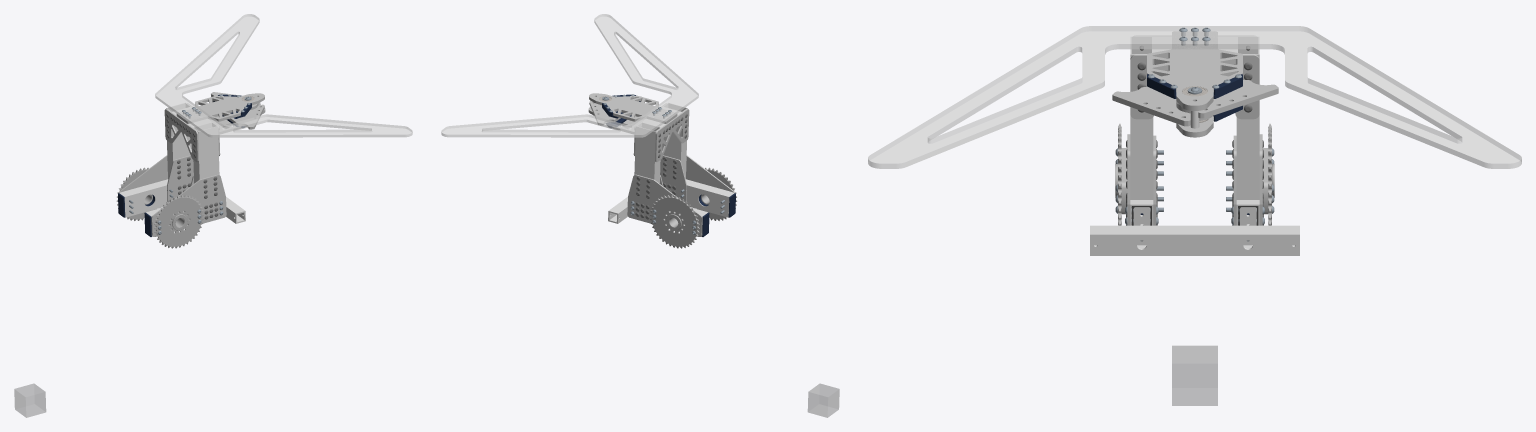
The picture shows the model from 3 angles, left to right: view 1: azimuth 30°, elevation 25°; view 2: azimuth 150°, elevation 25°; view 3: azimuth 270°, elevation 25°; orthographic projection. The views are drawn at different scales.
Visible parts, largest first — view 1: W25-CL-P059 side, W25-CL-P051 (×2), W25-CL-BT052 (×2), am-4794 40T 35 Chain 1125in Plate, W25-CL-P057, W25-CL-BT050, Origin Cube, W25-CL-P054, W25-CL-P067, W25-CL-P058; view 2: W25-CL-P059 side, W25-CL-P051 (×2), W25-CL-BT052 (×2), am-4794 40T 35 Chain 1125in Plate, W25-CL-P057, W25-CL-BT050, Origin Cube, W25-CL-P054, W25-CL-P067; view 3: W25-CL-P059 side, W25-CL-BT056, W25-CL-BT052 (×2), W25-CL-P057, W25-CL-P058 (×2), Origin Cube, W25-CL-P055, Push Spacer.
Boxes of the visible parts, box(x1,y1,x2,y2) form: W25-CL-P059 side: box(155, 14, 412, 137); W25-CL-P051 (×2): box(118, 155, 226, 236); W25-CL-BT052 (×2): box(166, 103, 219, 183); am-4794 40T 35 Chain 1125in Plate: box(154, 195, 203, 248); W25-CL-P057: box(176, 93, 264, 123); W25-CL-BT050: box(119, 179, 168, 217); Origin Cube: box(14, 383, 45, 417); W25-CL-P054: box(164, 109, 198, 162); W25-CL-P067: box(167, 155, 193, 202); W25-CL-P058: box(224, 104, 264, 129); W25-CL-P059 side: box(441, 14, 698, 137); W25-CL-P051 (×2): box(627, 155, 735, 236); W25-CL-BT052 (×2): box(634, 103, 687, 183); am-4794 40T 35 Chain 1125in Plate: box(650, 195, 699, 248); W25-CL-P057: box(589, 93, 677, 123); W25-CL-BT050: box(685, 179, 734, 217); Origin Cube: box(808, 383, 839, 417); W25-CL-P054: box(655, 109, 689, 162); W25-CL-P067: box(660, 155, 686, 202); W25-CL-P059 side: box(868, 26, 1521, 168); W25-CL-BT056: box(1090, 225, 1299, 255); W25-CL-BT052 (×2): box(1130, 37, 1259, 199); W25-CL-P057: box(1147, 31, 1242, 110); W25-CL-P058 (×2): box(1112, 80, 1278, 126); Origin Cube: box(1172, 346, 1217, 405); W25-CL-P055: box(1130, 54, 1259, 119); Push Spacer: box(1147, 74, 1242, 98).
Bounding box in the file's own units: 0.8003 × 0.6456 × 0.7224.
